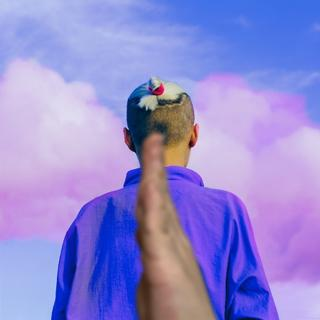RIGHT: (128, 130, 220, 320)
